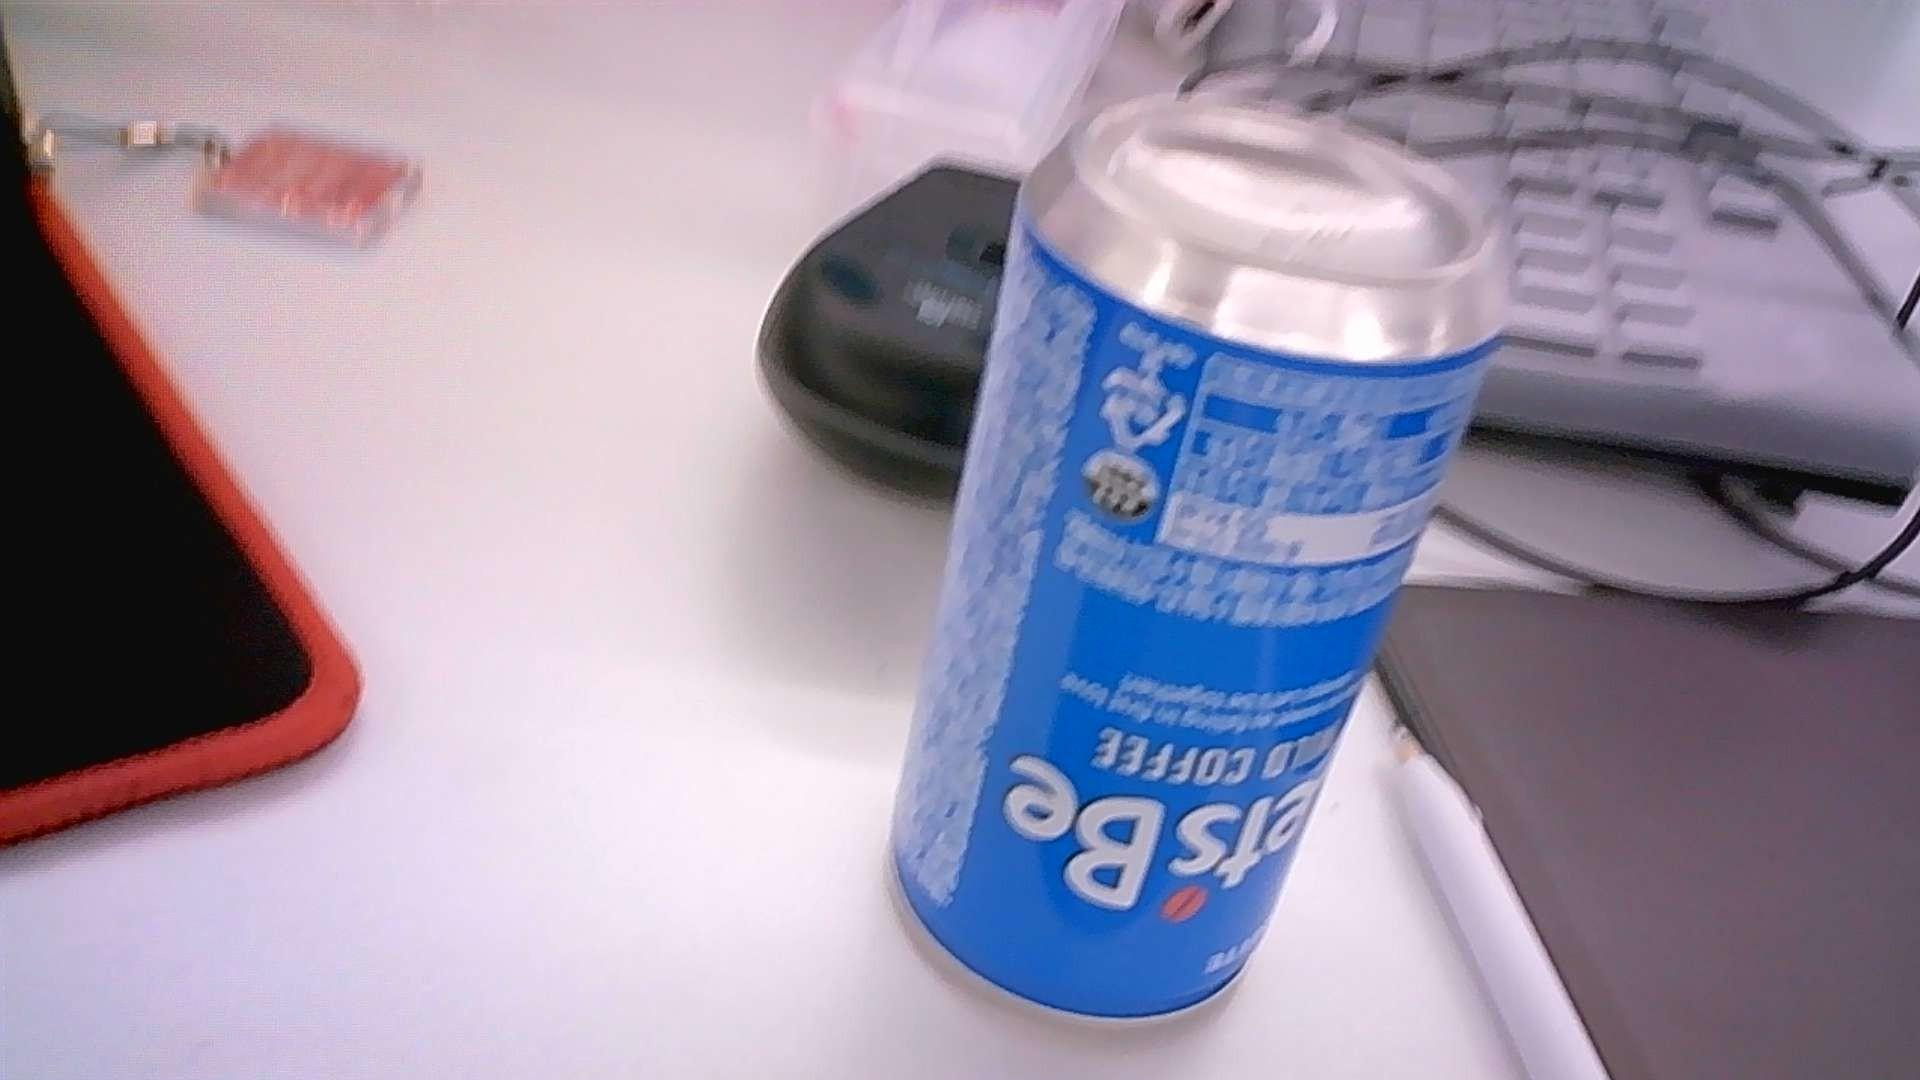letsbe: (889, 98, 1510, 1020)
